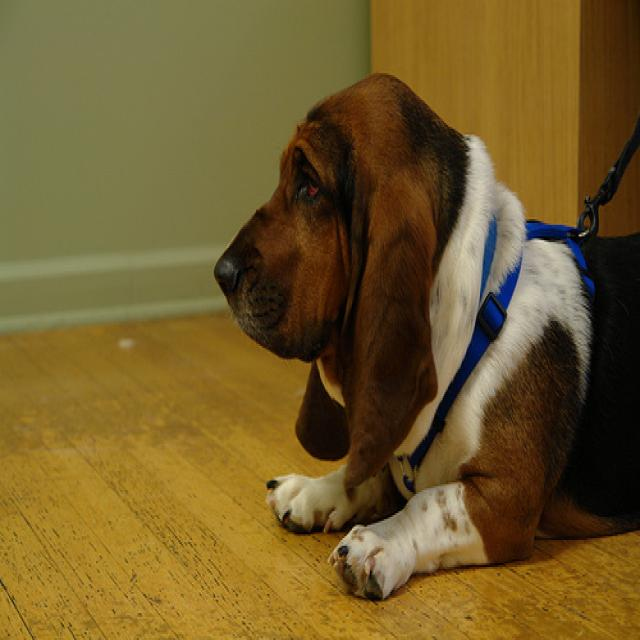dog-basset_hound: (207, 67, 637, 605)
